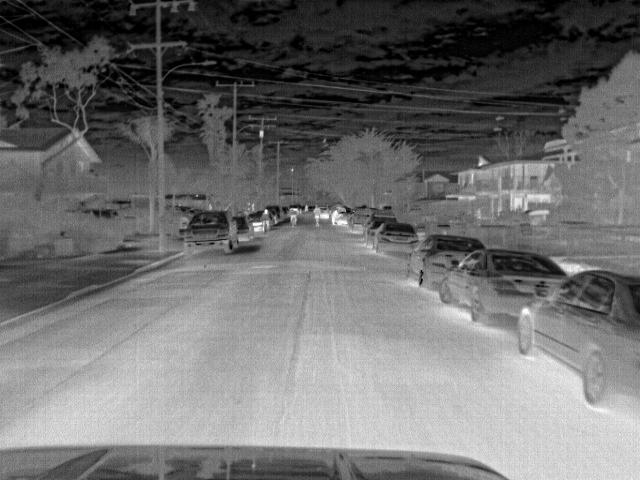car: (513, 266, 637, 412), (440, 245, 568, 326), (405, 234, 484, 286), (181, 209, 237, 255), (372, 221, 419, 257), (367, 215, 402, 242), (233, 214, 255, 244), (246, 212, 266, 232), (265, 206, 282, 222)
person: (310, 204, 322, 229), (288, 206, 300, 227), (328, 209, 341, 225)
